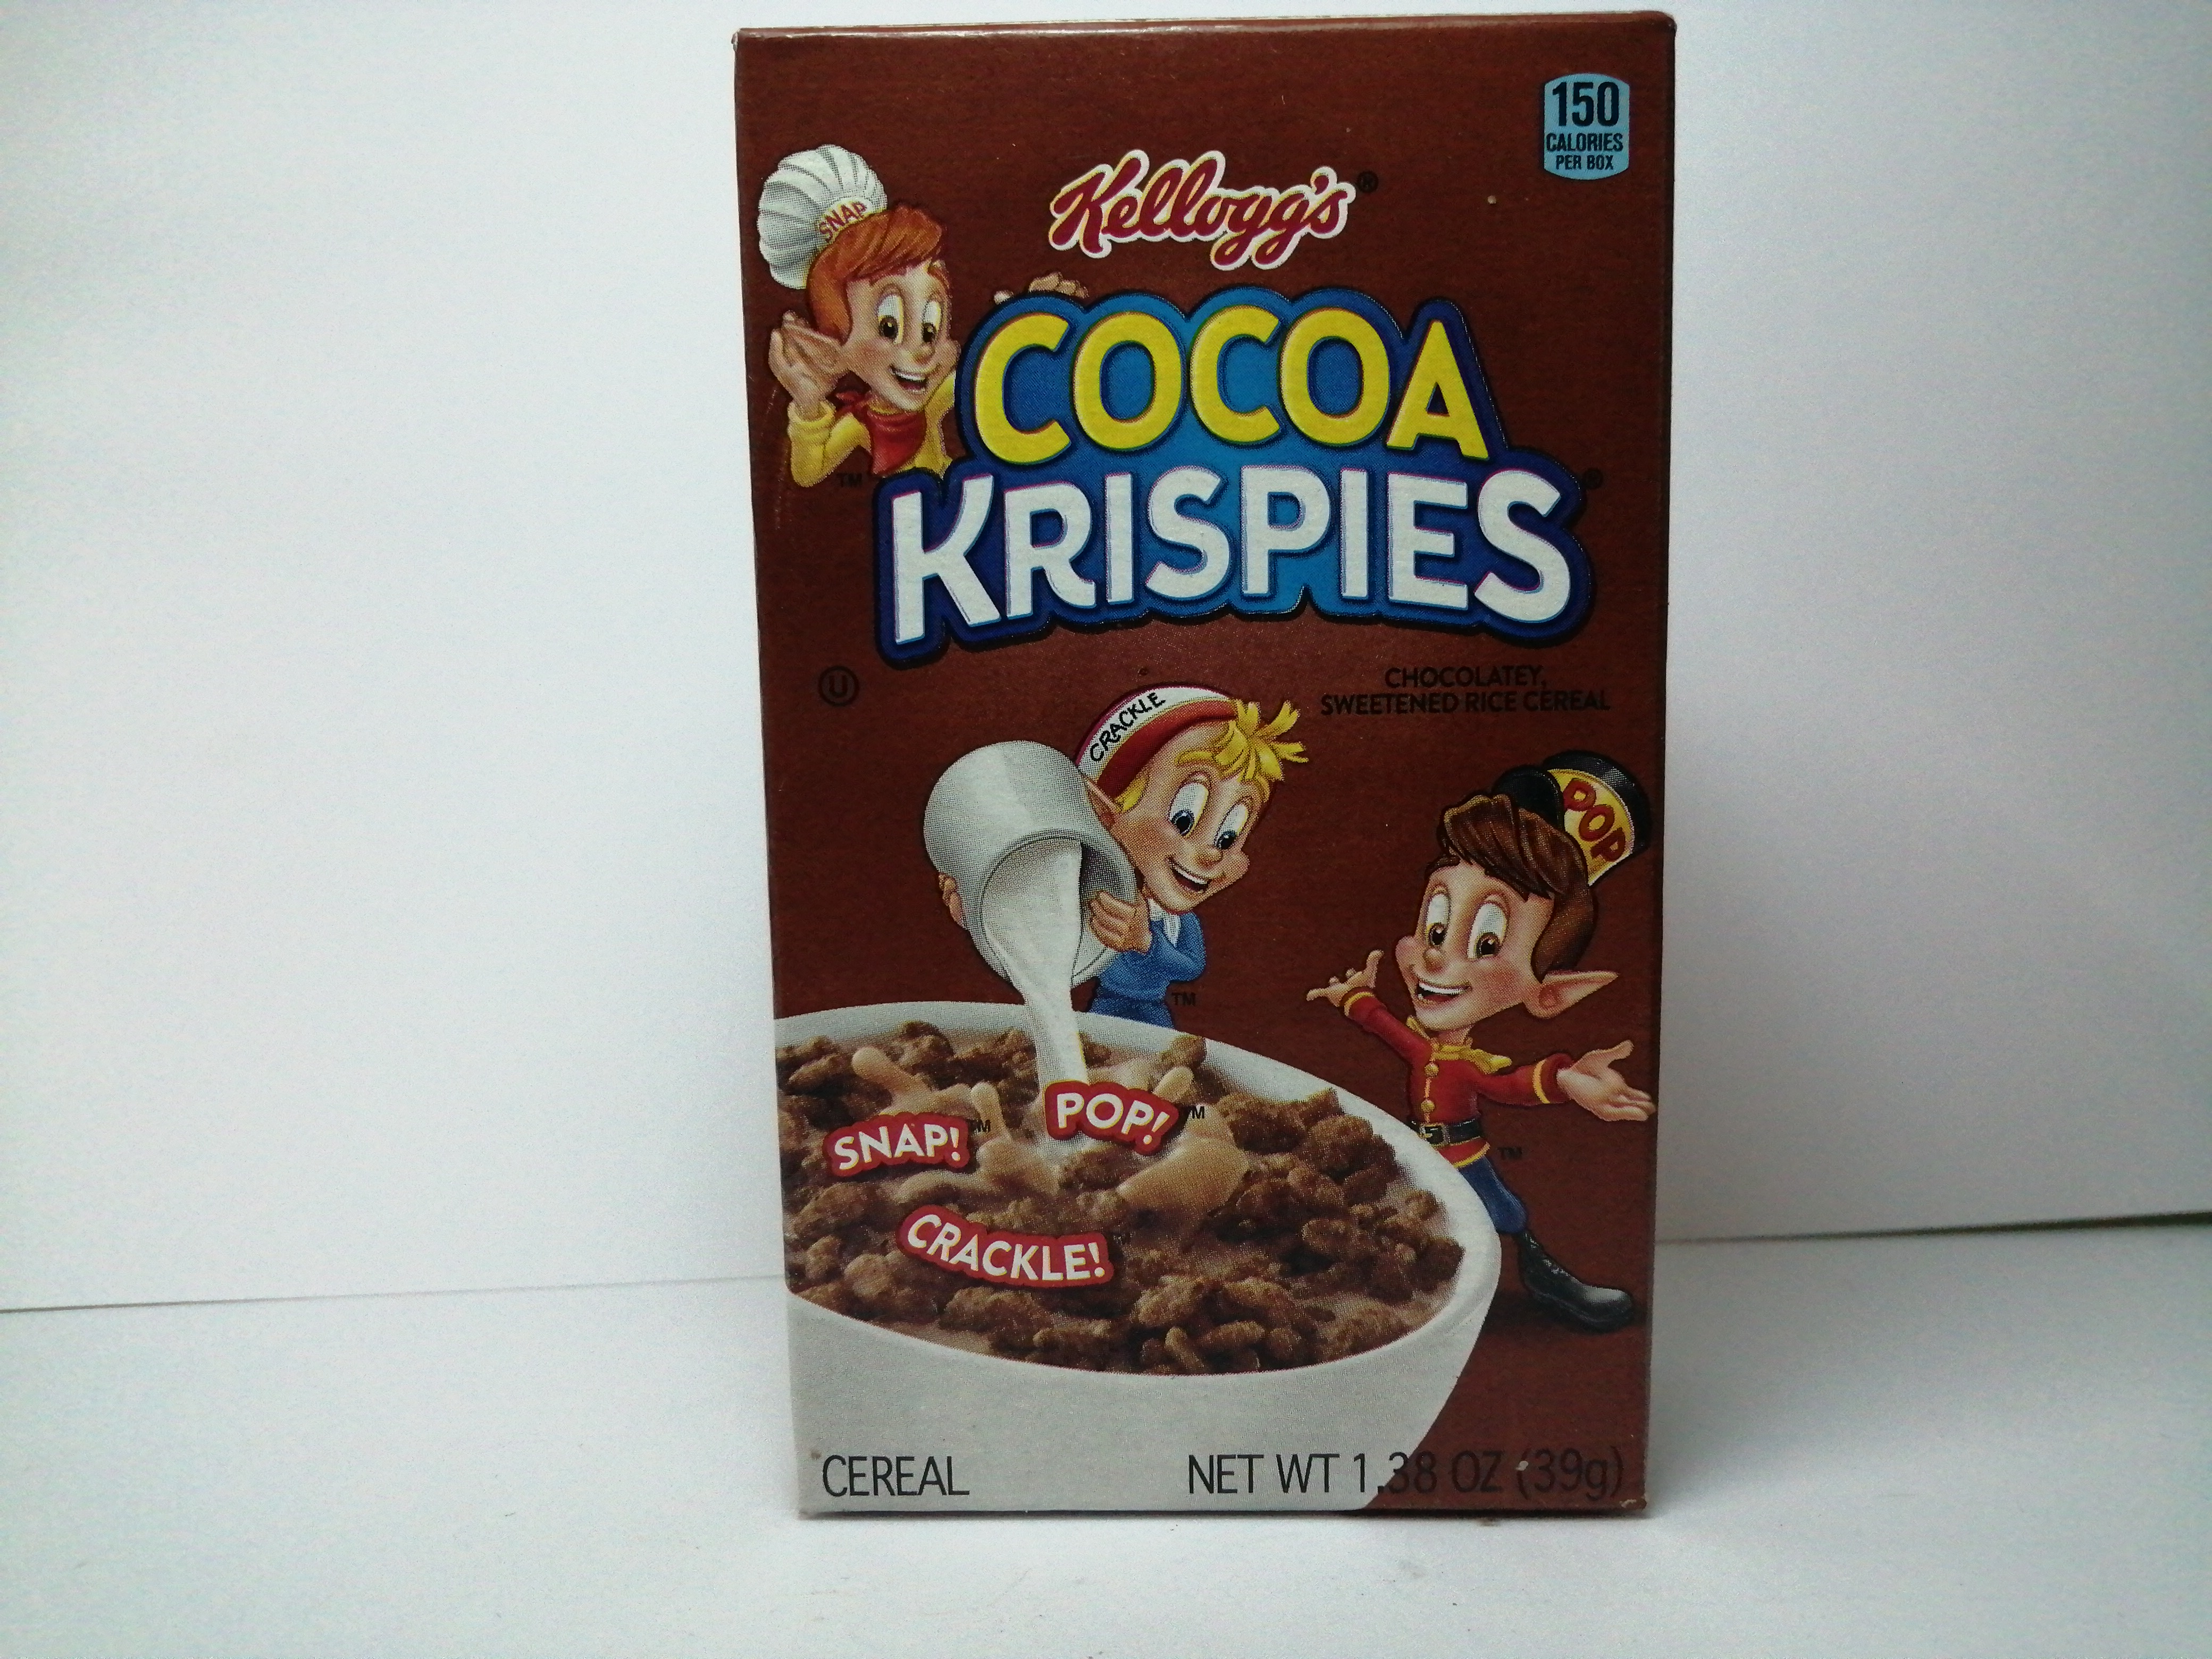cereal chocolate: (712, 2, 1709, 1537)
